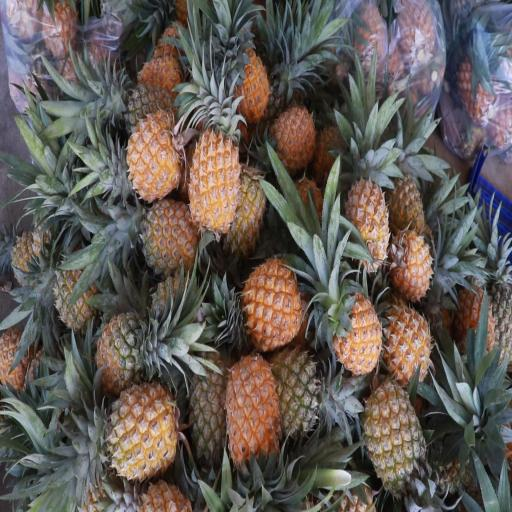------------------------------: (360, 378, 429, 498), (184, 333, 236, 475), (265, 344, 334, 440), (92, 308, 158, 394)
Pineapple - v8 v1: (101, 378, 182, 488), (224, 344, 283, 479), (240, 253, 306, 356), (188, 109, 241, 234), (122, 105, 185, 206), (341, 152, 391, 274), (133, 196, 204, 274), (382, 302, 435, 385), (263, 99, 317, 176), (389, 225, 440, 300), (230, 41, 273, 125), (342, 306, 383, 375)
